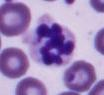N: (28, 16, 76, 68)
